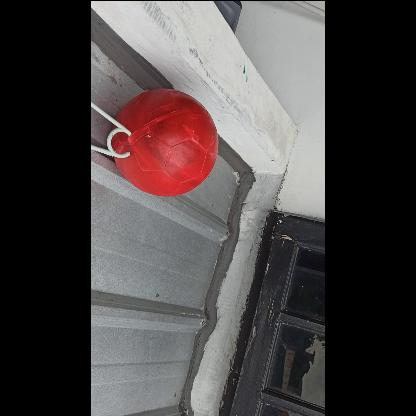red_ball: (112, 90, 218, 196)
